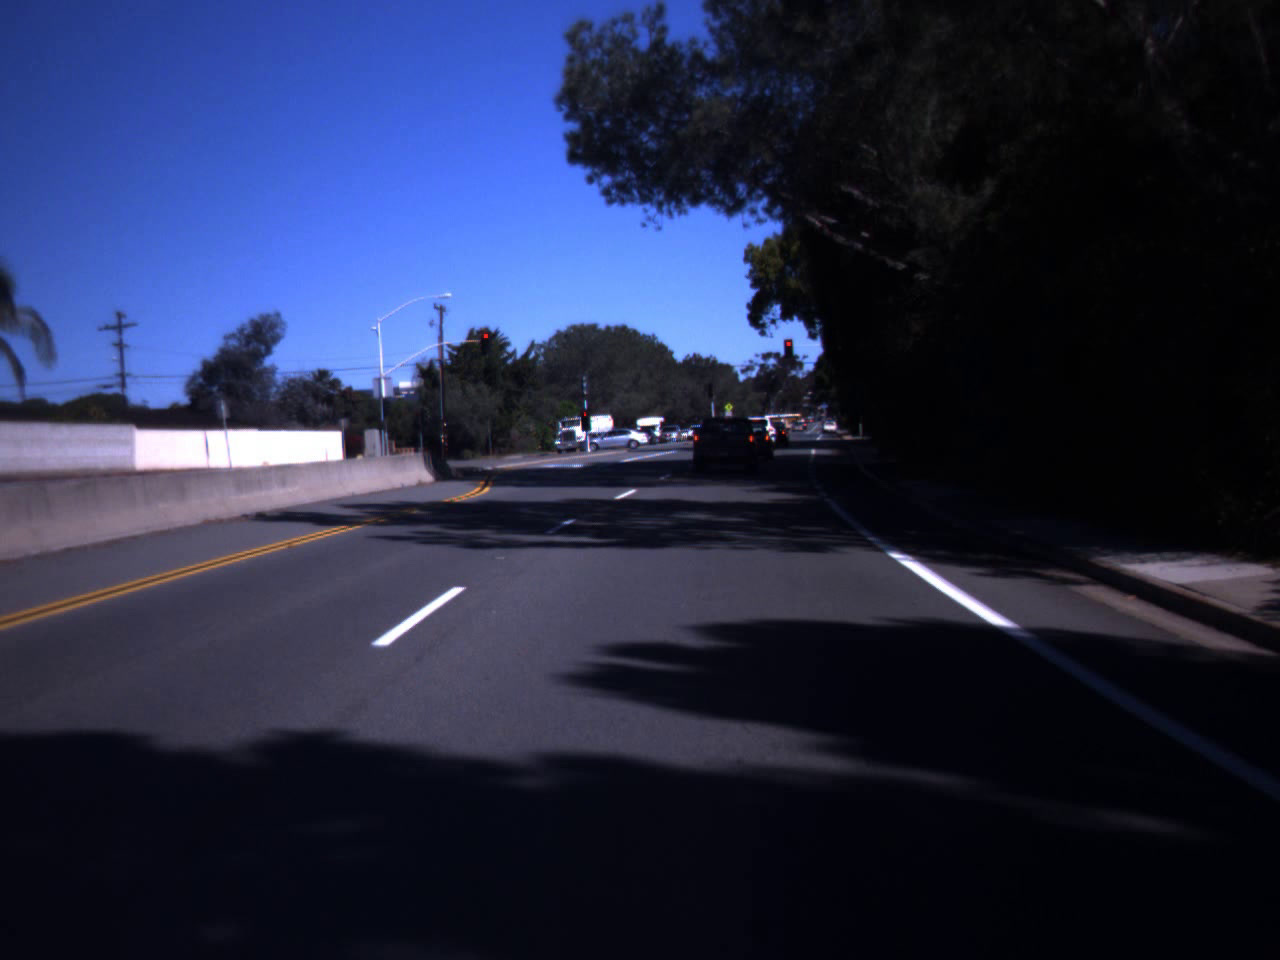stop: (480, 332, 492, 350), (782, 340, 794, 358)
